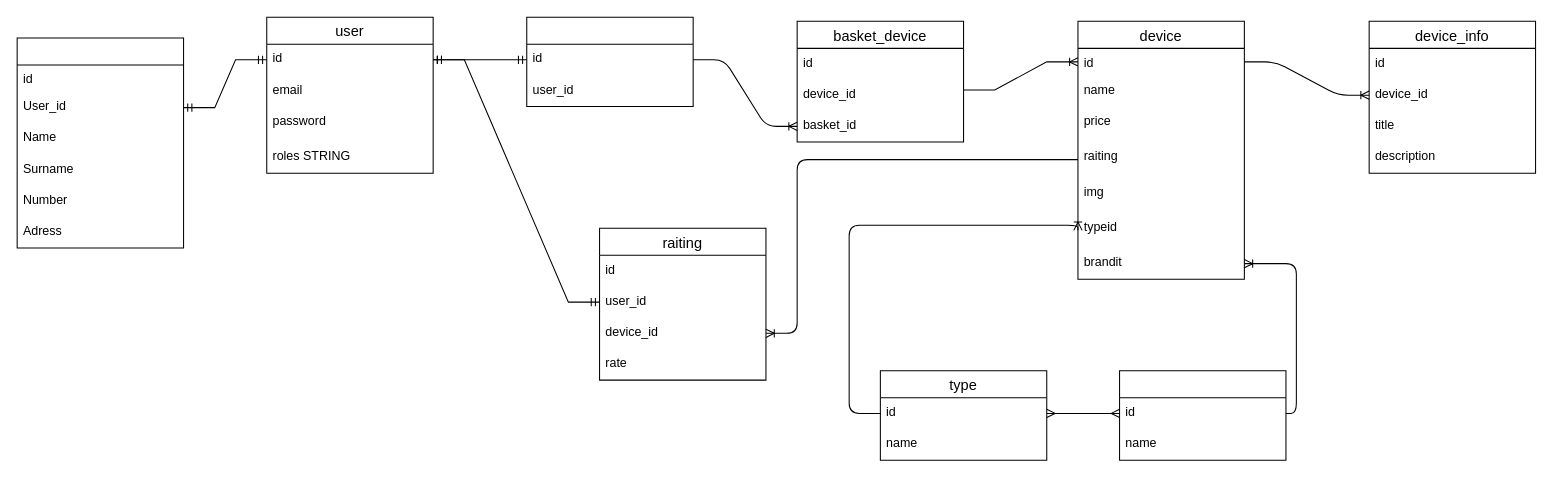
The diagram is 1553 pixels wide and 477 high, and some of its shapes have lost their labels. The shapes that lost their labels are listed below. From the top down, each one's box as (x1, y1, x2, y2) in pixels, then its label:
(526, 16, 693, 107): basket
(16, 37, 184, 248): Info
(1119, 370, 1286, 460): brand
